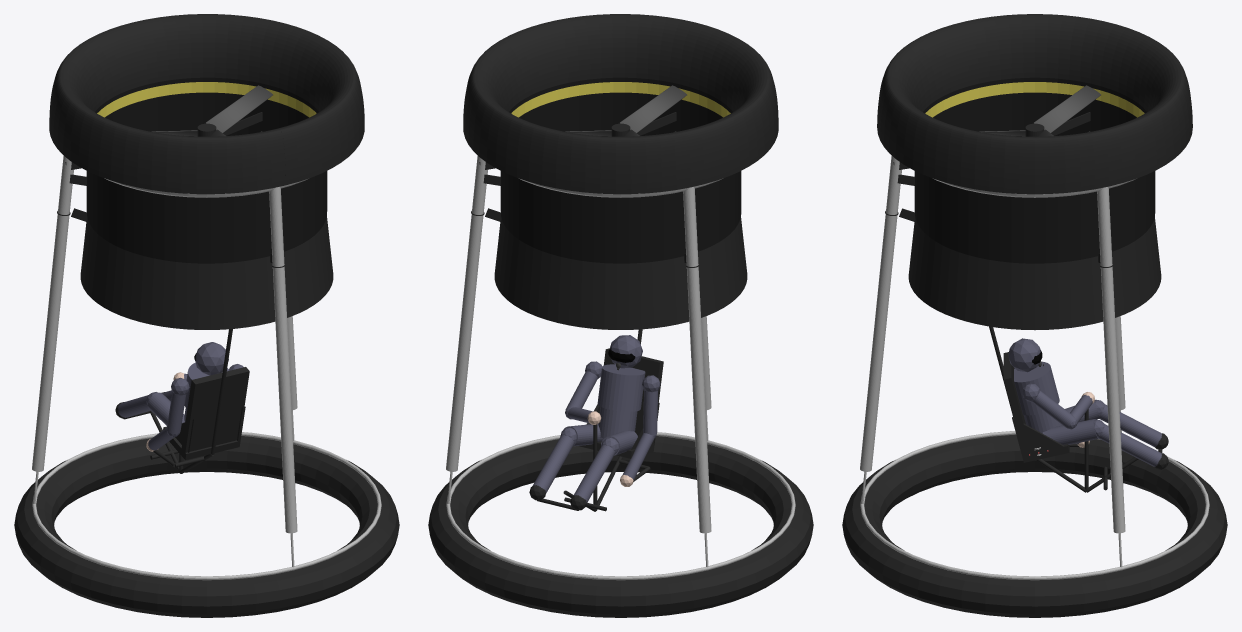
The model's file is Howard_VTOL_for_GEO_FS.glb.
3 renders of one model, left to right at view 1: azimuth 30°, elevation 25°; view 2: azimuth 150°, elevation 25°; view 3: azimuth 270°, elevation 25°, orthographic.
Parts seen in each view (by area): view 1: Duct_Bellmouth, Torus.008, Duct_Straight_Section, Cone, Seat_Backrest, Leg_0_Static, Leg_2_Static, Torus.007, Cylinder, Cylinder.003, Spigot_0_Static, Helmet (+6 smaller); view 2: Duct_Bellmouth, Torus.008, Duct_Straight_Section, Cone, Leg_2_Static, Leg_1_Static, Torus.007, Cylinder, Pilot_Chest, Cylinder.002, Spigot_2_Static, Pilot_Calf_L_Dynamic (+10 smaller); view 3: Duct_Bellmouth, Torus.008, Duct_Straight_Section, Cone, Leg_1_Static, Leg_0_Static, Torus.007, Cylinder, Pilot_Chest, Cylinder.004, Seat_Backrest, Spigot_1_Static (+9 smaller).
Boxes of the visible parts, x1,y1,x2,y2 form: Duct_Bellmouth: (49, 14, 364, 194); Torus.008: (14, 436, 399, 617); Duct_Straight_Section: (86, 77, 327, 263); Cone: (80, 217, 333, 329); Seat_Backrest: (181, 367, 249, 458); Leg_0_Static: (272, 266, 297, 533); Leg_2_Static: (32, 214, 69, 471); Torus.007: (32, 432, 381, 580); Cylinder: (97, 82, 316, 117); Cylinder.003: (206, 85, 272, 132); Spigot_0_Static: (269, 187, 284, 266); Helmet: (195, 342, 228, 375); Duct_Bellmouth: (463, 14, 778, 194); Torus.008: (428, 436, 813, 617); Duct_Straight_Section: (500, 77, 741, 263); Cone: (494, 216, 747, 329); Leg_2_Static: (686, 266, 711, 533); Leg_1_Static: (446, 214, 483, 471); Torus.007: (446, 432, 795, 580); Cylinder: (511, 82, 730, 117); Pilot_Chest: (597, 364, 645, 411); Cylinder.002: (620, 85, 686, 132); Spigot_2_Static: (683, 187, 698, 266); Pilot_Calf_L_Dynamic: (573, 445, 615, 503); Duct_Bellmouth: (877, 14, 1192, 194); Torus.008: (842, 434, 1227, 617); Duct_Straight_Section: (914, 77, 1155, 263); Cone: (908, 216, 1161, 330); Leg_1_Static: (1100, 266, 1125, 533); Leg_0_Static: (860, 214, 897, 471); Torus.007: (860, 431, 1209, 580); Cylinder: (925, 82, 1144, 117); Pilot_Chest: (1014, 361, 1059, 415); Cylinder.004: (1034, 85, 1100, 132); Seat_Backrest: (1003, 352, 1033, 461); Spigot_1_Static: (1097, 187, 1112, 266).
Size of the model in its own units: 2.46 by 3.29 by 2.46.
